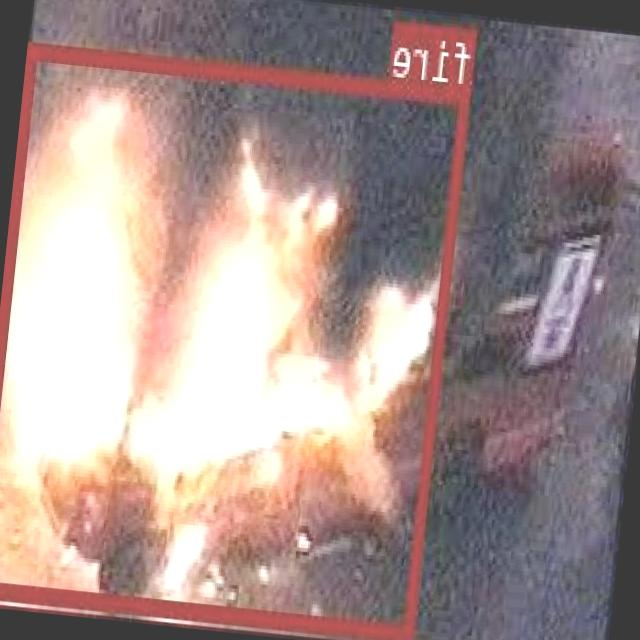fire: (0, 39, 471, 636)
